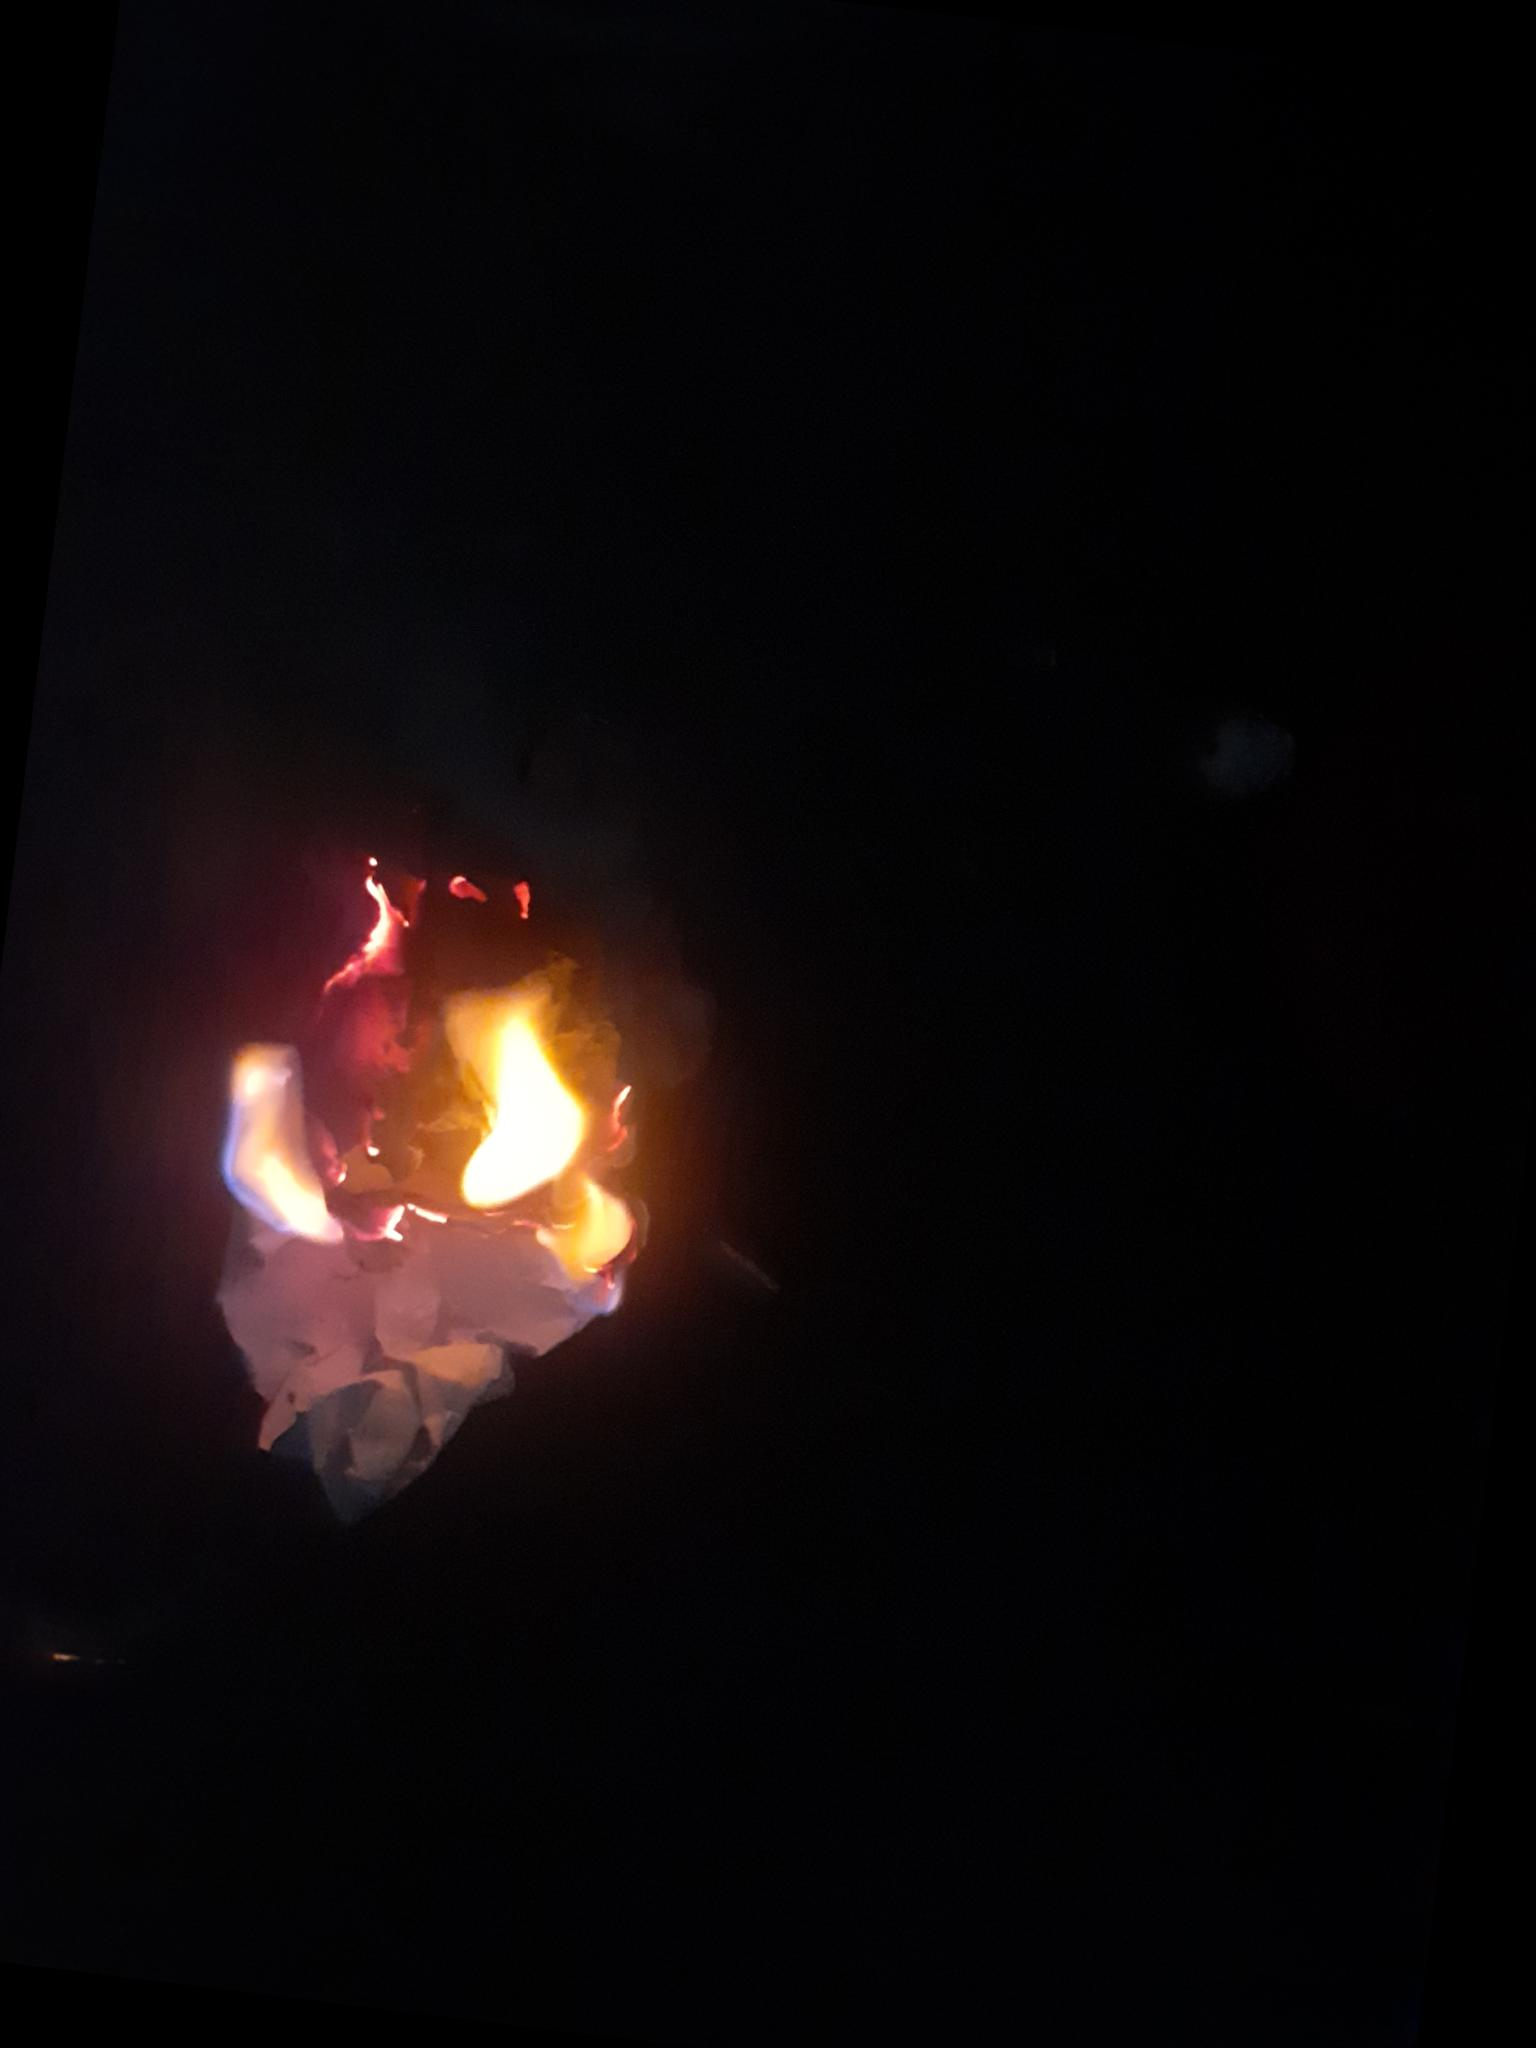Fire: (200, 834, 682, 1303)
